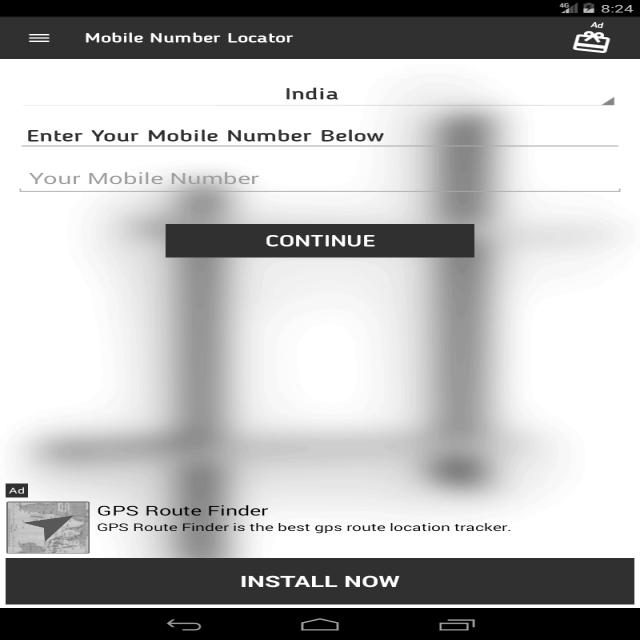Button: (1, 554, 632, 610), (156, 218, 488, 262)
EditText: (13, 164, 626, 196), (14, 120, 624, 150)
ImageButton: (18, 29, 59, 47)
TextView: (94, 498, 520, 532), (70, 29, 304, 47), (562, 19, 614, 55)
